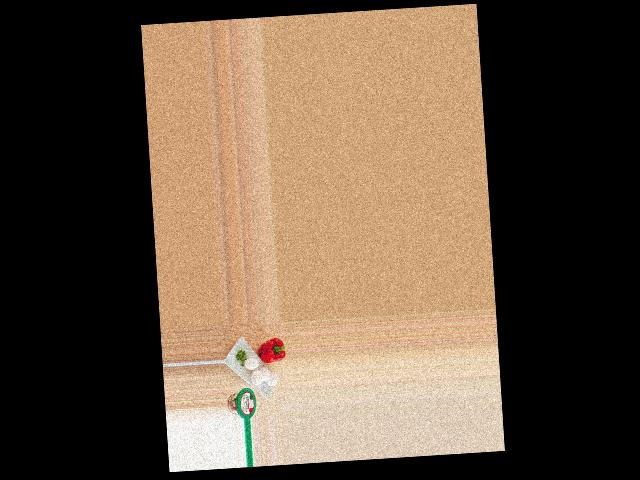bell_pepper: (258, 335, 285, 367)
